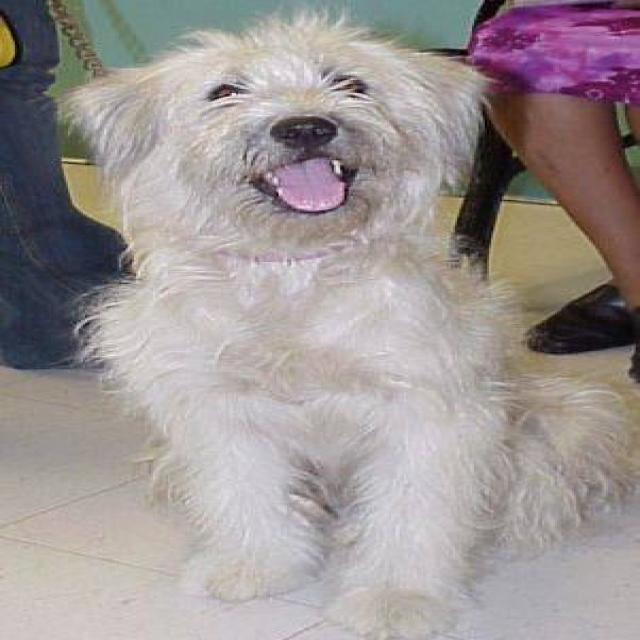dog: (55, 7, 638, 638)
